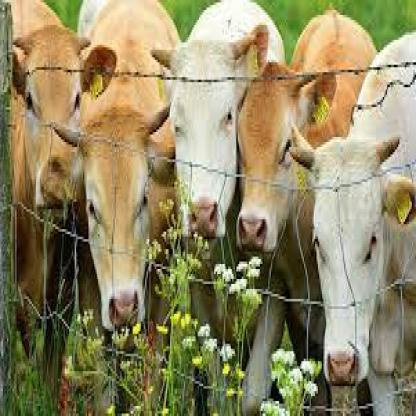cow: (311, 30, 416, 416), (42, 107, 174, 346), (166, 44, 268, 255), (8, 35, 116, 219), (238, 60, 337, 259)
